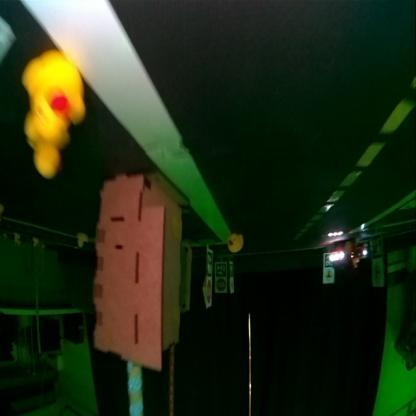Duckie: (22, 52, 84, 138), (24, 112, 68, 178), (227, 235, 243, 253), (77, 234, 87, 248), (352, 260, 358, 270)
Intersection sign: (372, 262, 383, 286), (323, 272, 332, 284)
QR code: (206, 252, 212, 276), (215, 264, 226, 275), (324, 254, 331, 269)
Stop sign: (206, 281, 212, 305), (215, 280, 226, 293)
